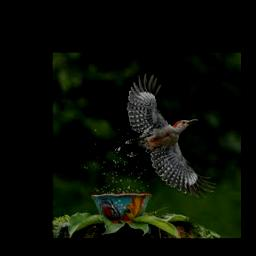Woodpecker: (120, 73, 216, 196)
